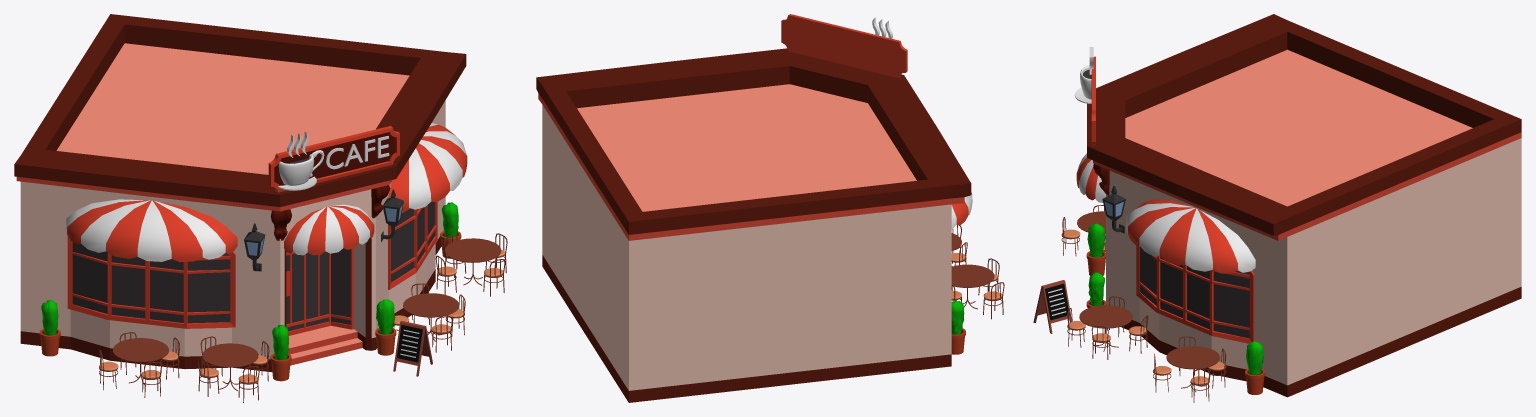
Rendered from CafeBuilding.glb.
3 views of the same model, side by side, from view 1: azimuth 30°, elevation 25°; view 2: azimuth 150°, elevation 25°; view 3: azimuth 270°, elevation 25° (orthographic). The views are drawn at different scales.
Parts seen in each view (by area): view 1: CafeBuilding; view 2: CafeBuilding; view 3: CafeBuilding.
Part boxes in pixels (bbox=[...]): CafeBuilding: bbox=[14, 14, 507, 402]; CafeBuilding: bbox=[536, 14, 1004, 402]; CafeBuilding: bbox=[1033, 14, 1521, 402].
Bounding box in the file's own units: 0.0601 × 0.0308 × 0.059.
1 material, 1 textured.
